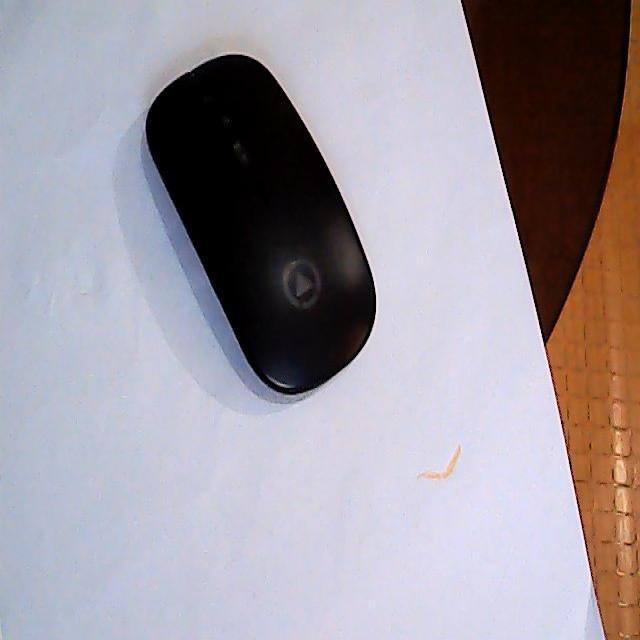Mouse: (147, 49, 380, 398)
